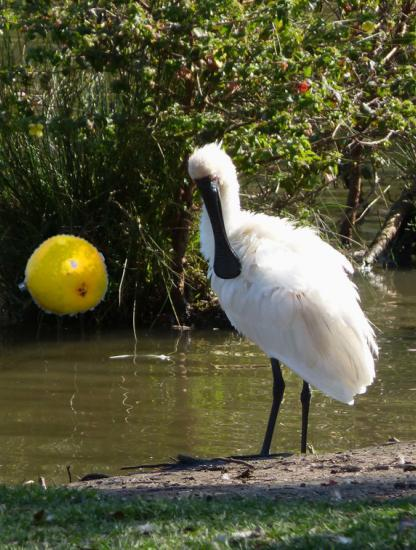Maracuja: (20, 233, 109, 322)
